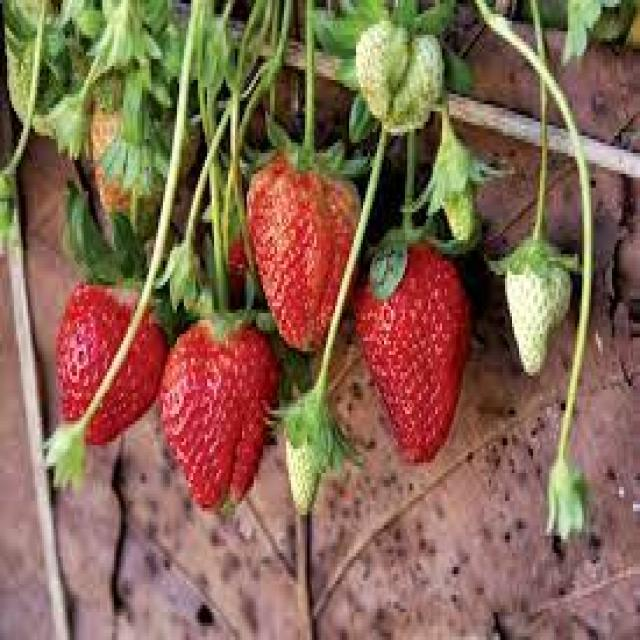strawberry: (152, 292, 281, 508), (356, 225, 470, 462), (257, 133, 358, 362), (53, 275, 162, 437)
